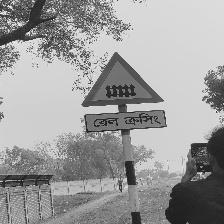Rail-crossing: (81, 53, 167, 133)
